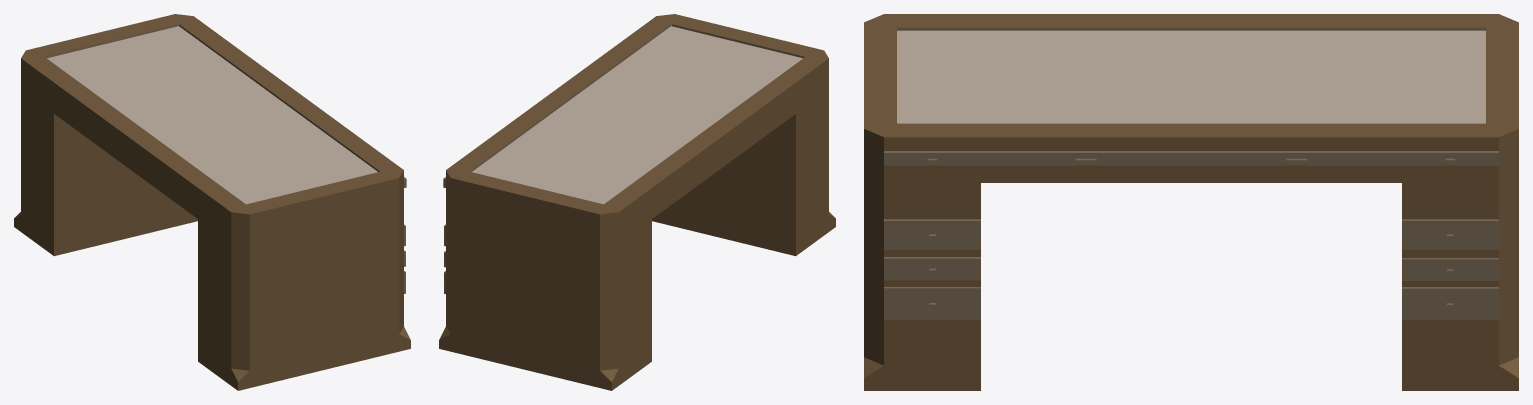
The model's file is MesaFinal.fbx.
3 views of the same model, side by side, from view 1: azimuth 30°, elevation 25°; view 2: azimuth 150°, elevation 25°; view 3: azimuth 270°, elevation 25° (orthographic). The views are drawn at different scales.
Parts seen in each view (by area): view 1: Mesa; view 2: Mesa; view 3: Mesa.
Part boxes in pixels (x1,y1,x2,y2): Mesa: (14, 14, 410, 390); Mesa: (439, 14, 835, 390); Mesa: (864, 14, 1518, 390).
Bounding box in the file's own units: 4.43 × 4.13 × 9.66.
